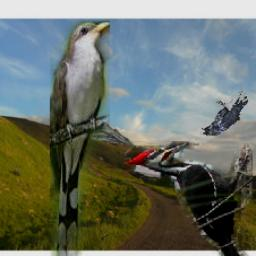Crow: (200, 92, 249, 137)
Cuckoo: (51, 21, 111, 256)
Woodpecker: (126, 141, 254, 256)
